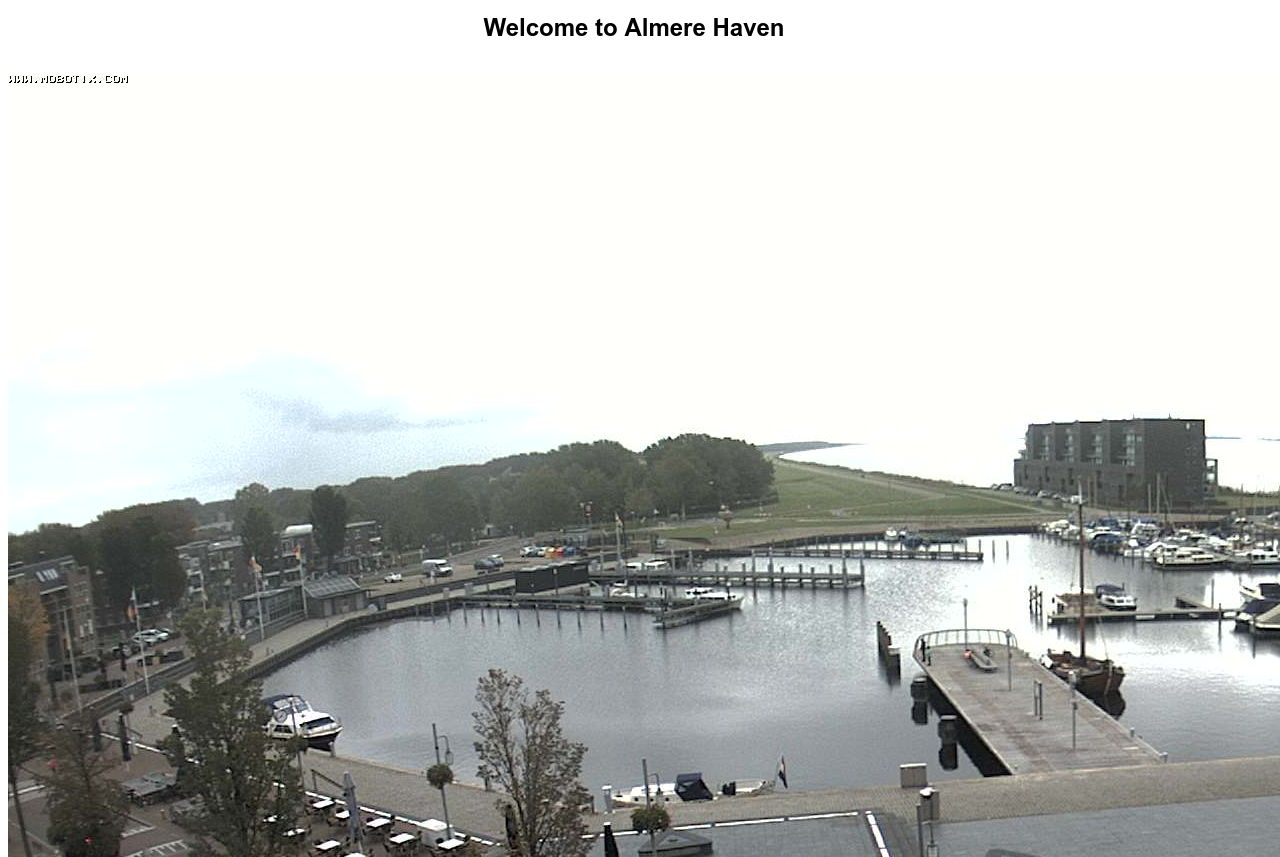no: (245, 547, 269, 588), (120, 588, 141, 627), (290, 534, 308, 575), (195, 569, 209, 604), (609, 511, 626, 538)
